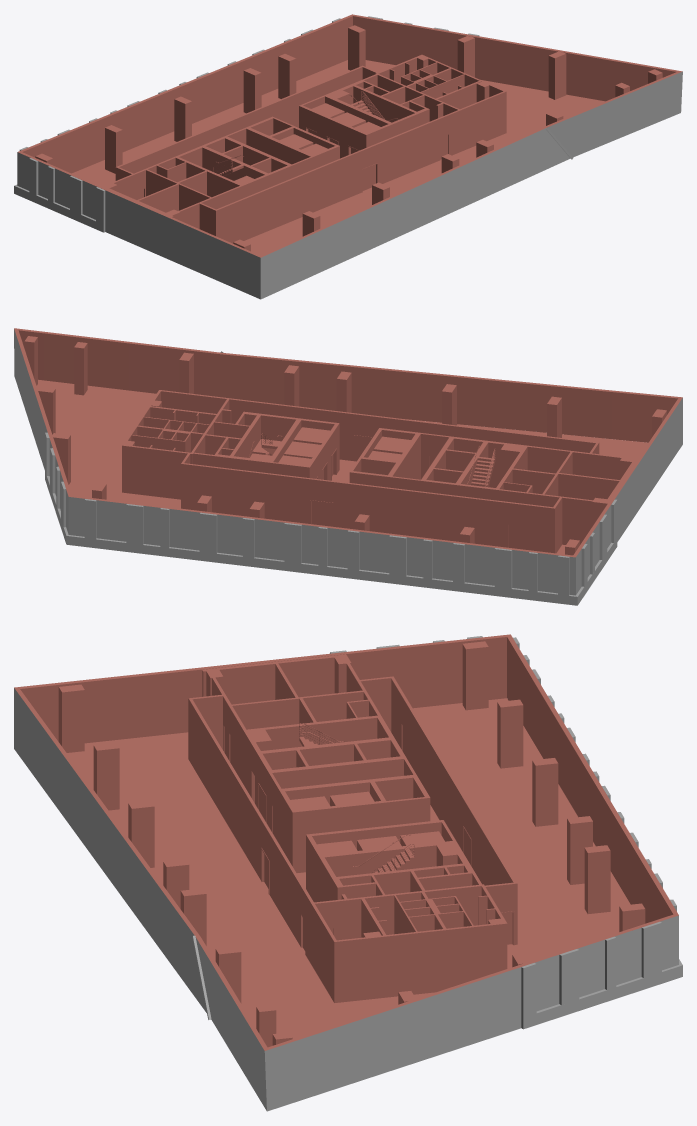
Rendered from JLL_Ruya_Region3DModels_Riyadh_Derived_HeroBuildings_Building 305_Floors_KSA_04_04105_B29_Floor_T1_6.fbx.
3 renders of one model, top to bottom at view 1: azimuth 30°, elevation 25°; view 2: azimuth 150°, elevation 25°; view 3: azimuth 270°, elevation 25°, orthographic. The views are drawn at different scales.
Visible parts, largest first — view 1: KSA_04_04105_B29_Floor_T1_6; view 2: KSA_04_04105_B29_Floor_T1_6; view 3: KSA_04_04105_B29_Floor_T1_6.
Boxes of the visible parts, x1=… form: KSA_04_04105_B29_Floor_T1_6: x1=14, y1=14, x2=682, y2=299; KSA_04_04105_B29_Floor_T1_6: x1=14, y1=328, x2=682, y2=605; KSA_04_04105_B29_Floor_T1_6: x1=14, y1=634, x2=682, y2=1111.
Size of what is drawn, in the model's own units: 5992 by 509 by 4048.
